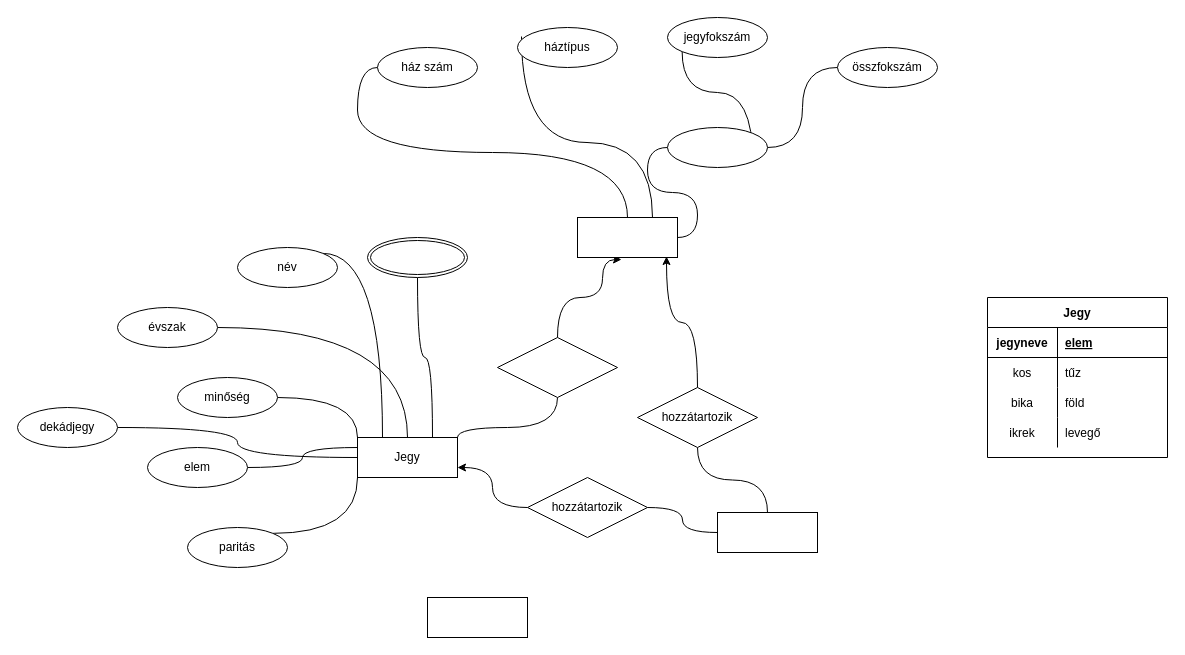
Image size: 1185x655. Some labels were removed from this diagram. Here are the shapes that lost their labels. From the top down, the centre of each, then its label:
At point (717, 147): "fokszám".
At point (417, 257): "tulajdonságok".
At point (627, 237): "Ház".
At point (557, 367): "létrehoz".
At point (767, 532): "Bolygó".
At point (477, 617): "Ember".
